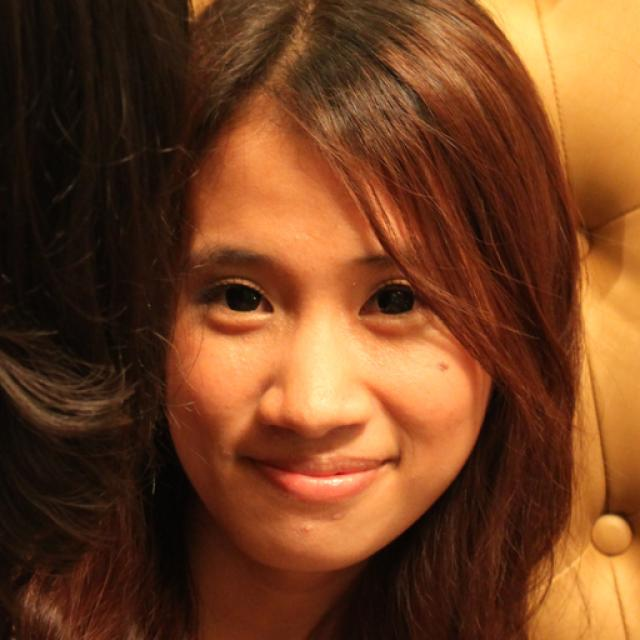Acne: (322, 503, 352, 525), (432, 356, 454, 383), (300, 519, 325, 541)
